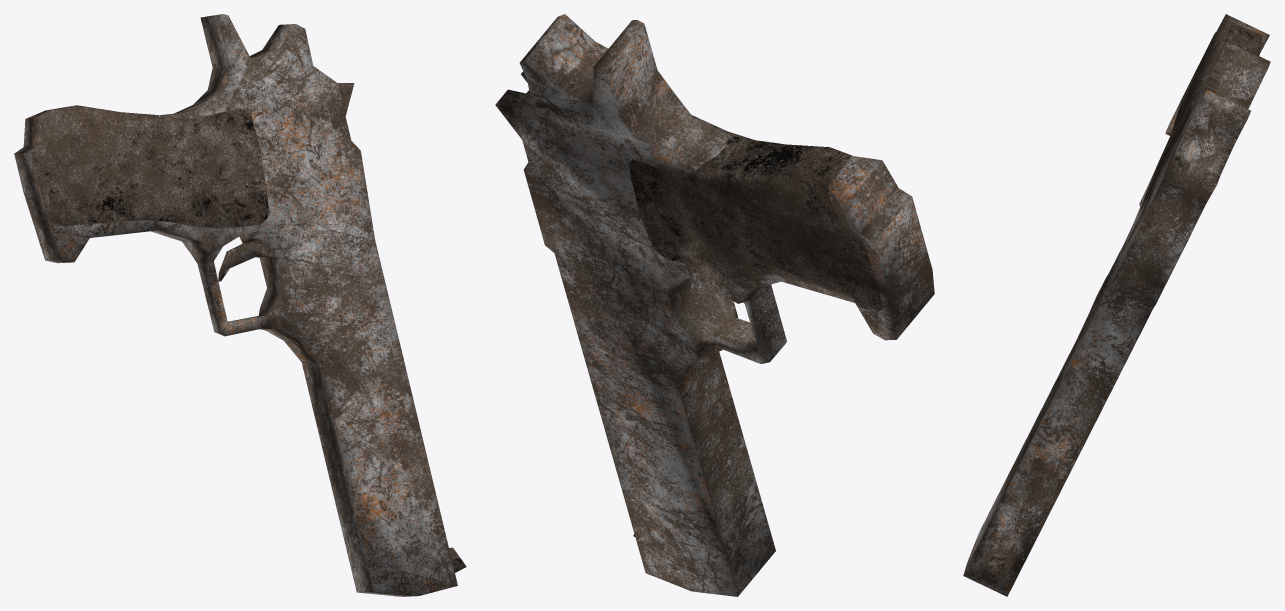
The model's file is Anim_disparar_pistola_objetos.0019.obj.
3 views of the same model, side by side, from view 1: azimuth 30°, elevation 25°; view 2: azimuth 150°, elevation 25°; view 3: azimuth 270°, elevation 25° (orthographic). The views are drawn at different scales.
Visible parts, largest first — view 1: Pistola1; view 2: Pistola1; view 3: Pistola1.
Boxes of the visible parts, left/top/right/bottom form: Pistola1: left=14, top=14, right=466, bottom=596; Pistola1: left=495, top=14, right=934, bottom=596; Pistola1: left=963, top=14, right=1270, bottom=596.
Size of the model in its own units: 1.02 by 1.59 by 0.8747.
